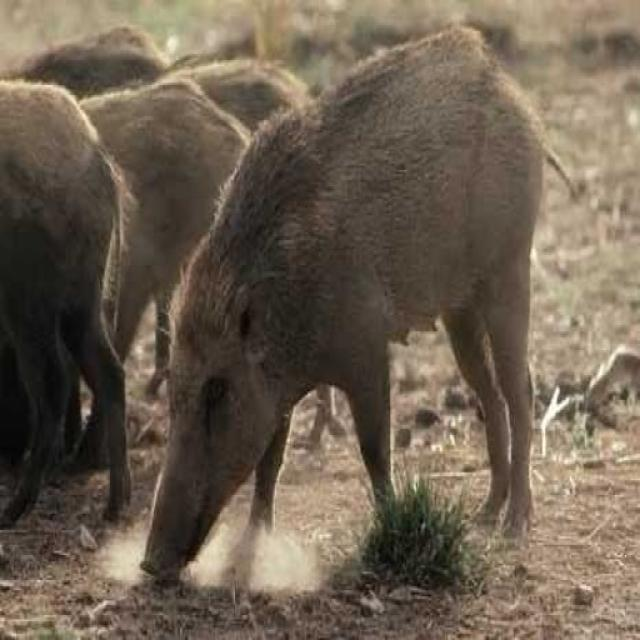pig: (98, 39, 626, 584)
